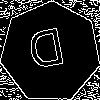D: (25, 27, 69, 79)
